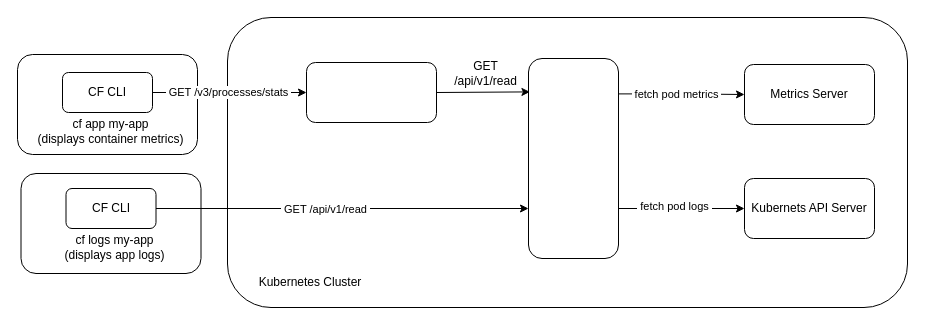
Some shapes in this 925 by 325 pixel diagram are drawn without their labels. Each missing label, with the centre of its shape:
"Korifi API" belongs at (371,92).
"Log Cache API" belongs at (573,158).
